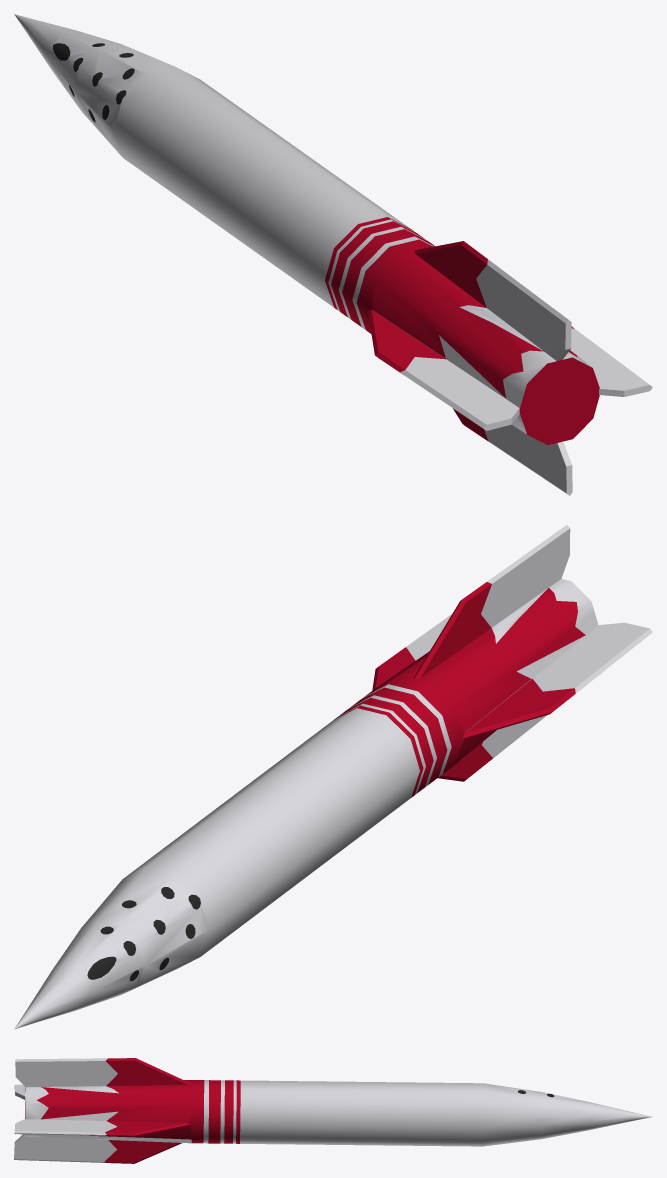
The model's file is Rocket.FBX.
3 renders of one model, top to bottom at view 1: azimuth 30°, elevation 25°; view 2: azimuth 150°, elevation 25°; view 3: azimuth 270°, elevation 25°, orthographic. The views are drawn at different scales.
Parts seen in each view (by area): view 1: Group_001, Fin_001, Fin_002, Fin_003, Fin_004; view 2: Group_001, Fin_001, Fin_002, Fin_003, Fin_004; view 3: Group_001, Fin_001, Fin_003, Fin_004.
Boxes of the visible parts, x1=… form: Group_001: x1=14, y1=14, x2=599, y2=445; Fin_001: x1=414, y1=241, x2=571, y2=360; Fin_002: x1=368, y1=309, x2=519, y2=430; Fin_003: x1=453, y1=408, x2=572, y2=495; Fin_004: x1=570, y1=326, x2=652, y2=396; Group_001: x1=14, y1=578, x2=598, y2=1029; Fin_001: x1=413, y1=524, x2=570, y2=679; Fin_002: x1=463, y1=622, x2=652, y2=739; Fin_003: x1=437, y1=715, x2=547, y2=781; Fin_004: x1=372, y1=614, x2=451, y2=690; Group_001: x1=25, y1=1080, x2=652, y2=1146; Fin_001: x1=15, y1=1058, x2=191, y2=1087; Fin_003: x1=14, y1=1134, x2=181, y2=1163; Fin_004: x1=14, y1=1119, x2=188, y2=1136.
Bounding box in the file's own units: 120 × 119 × 649.
